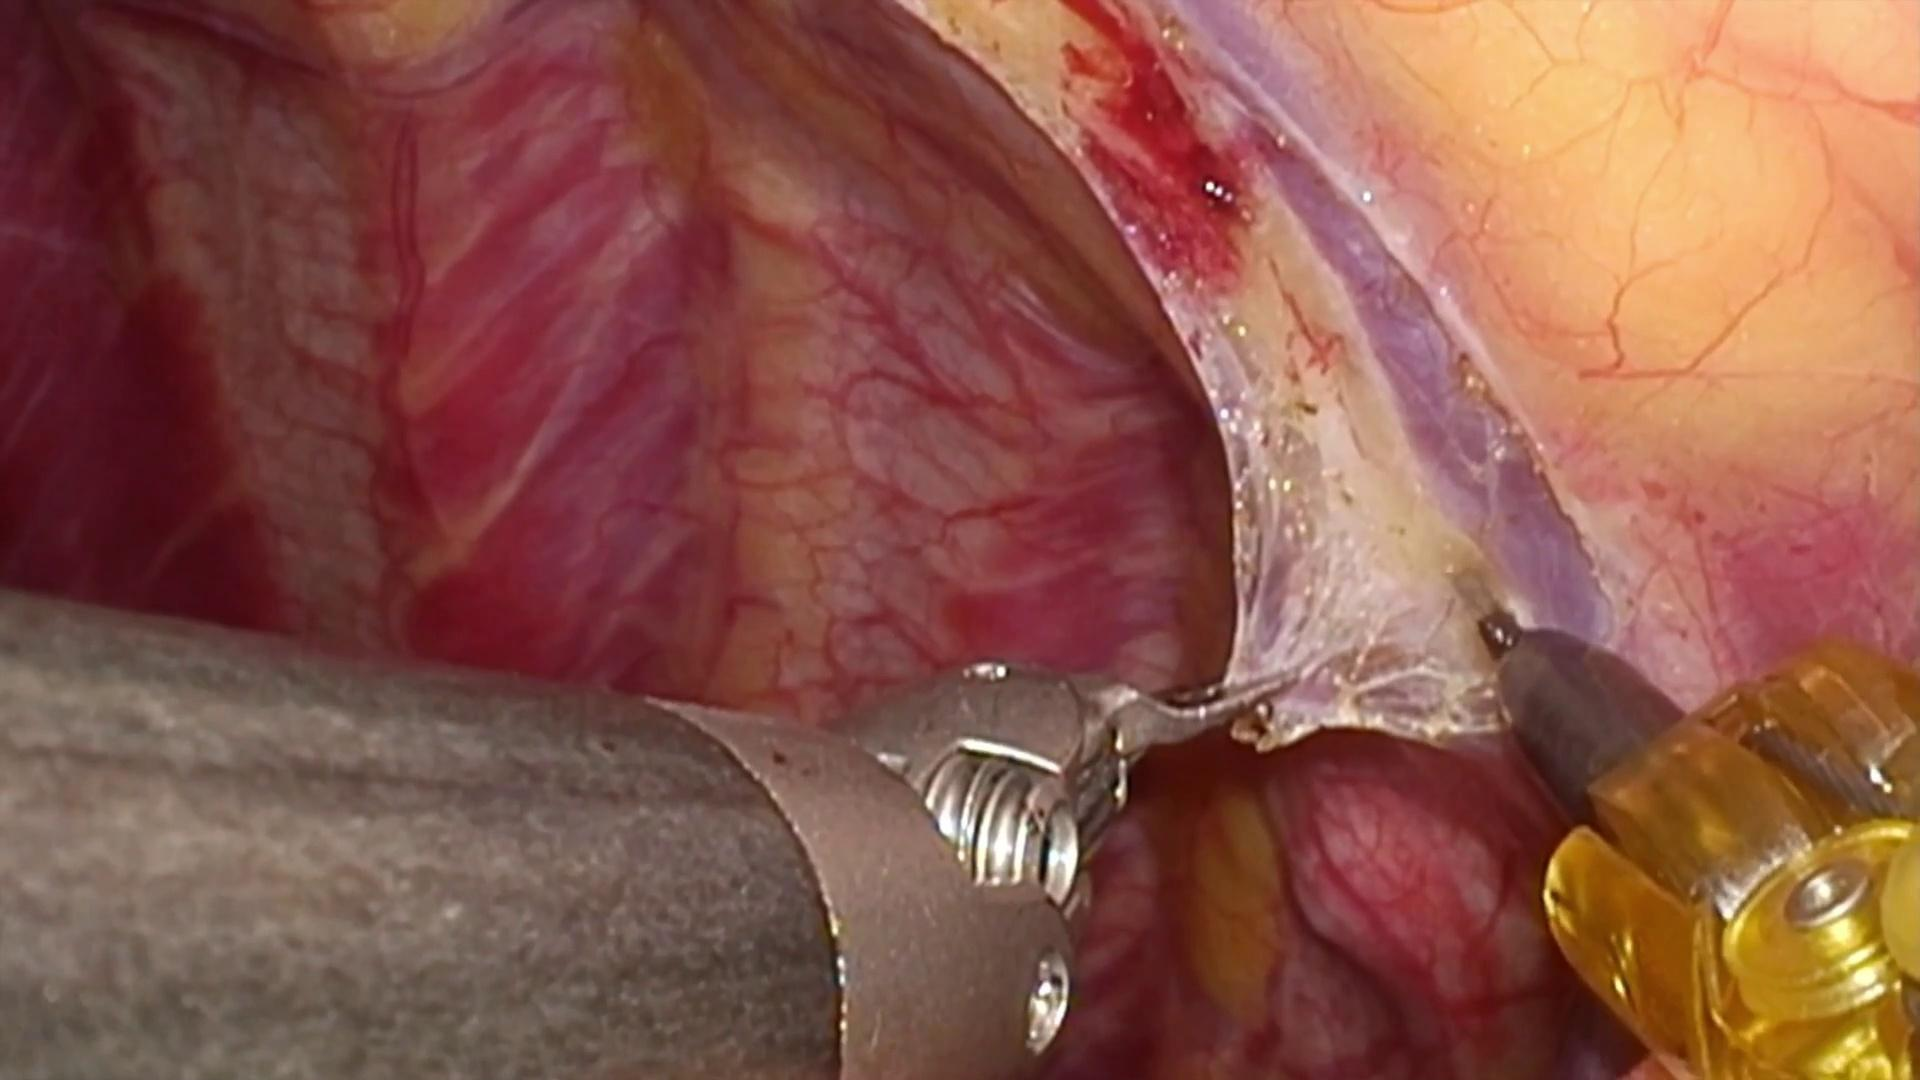Cautery_Spatula: (1436, 560, 1704, 802)
Debakey: (1069, 654, 1299, 808)
